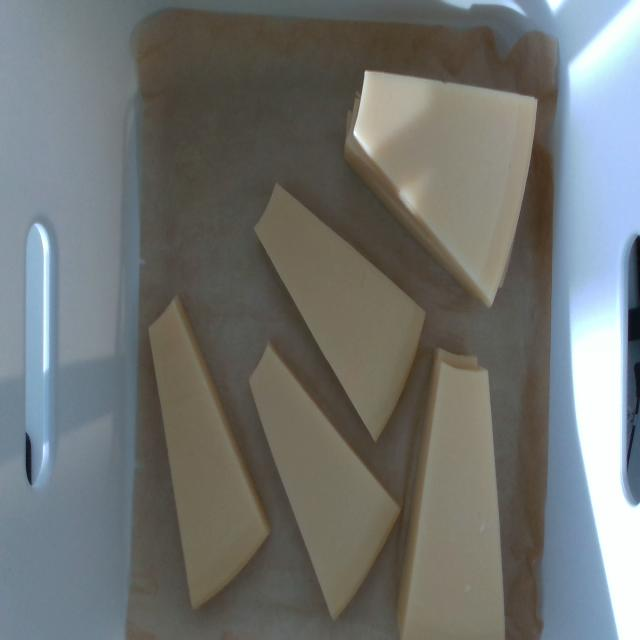Cheese: (353, 70, 537, 306), (256, 182, 424, 439), (250, 344, 398, 617), (148, 300, 268, 610), (402, 360, 506, 639)
